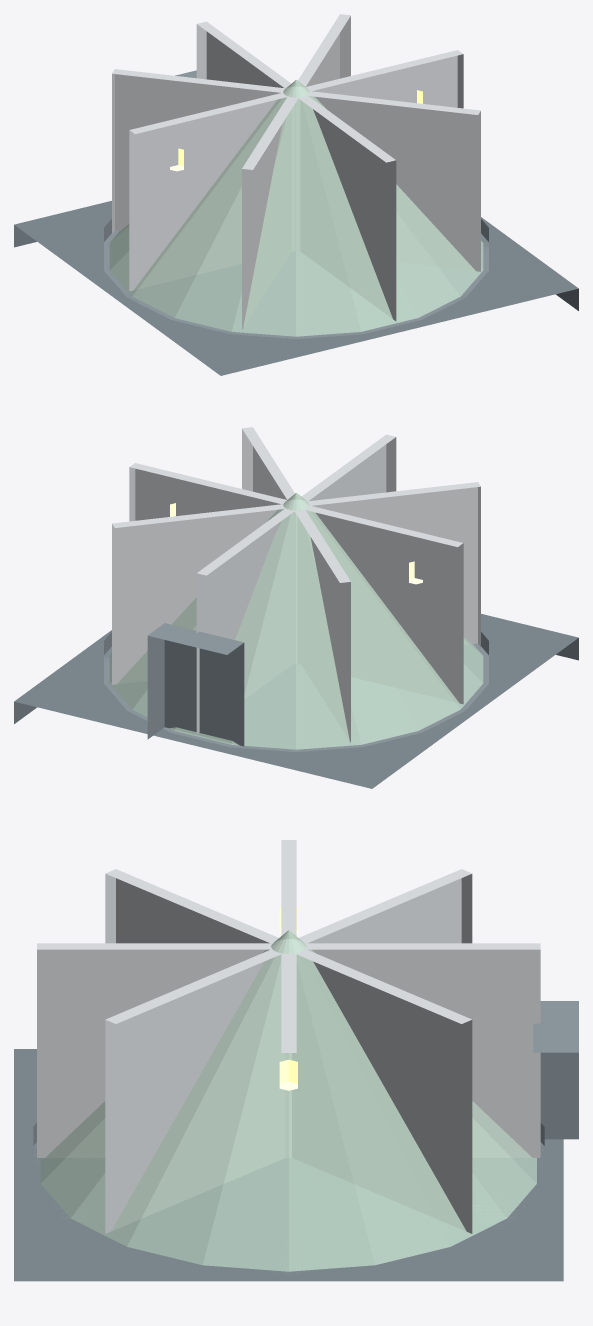
The model's file is farmarea.glb.
3 renders of one model, top to bottom at view 1: azimuth 30°, elevation 25°; view 2: azimuth 150°, elevation 25°; view 3: azimuth 270°, elevation 25°, orthographic. The views are drawn at different scales.
Visible parts, largest first — view 1: VH_Greenhouse; view 2: VH_Greenhouse; view 3: VH_Greenhouse.
Part boxes in pixels (x1,y1,x2,y2): VH_Greenhouse: [14, 14, 578, 375]; VH_Greenhouse: [14, 427, 578, 788]; VH_Greenhouse: [14, 840, 578, 1281].
Bounding box in the file's own units: 3.6 × 1.92 × 3.7.
